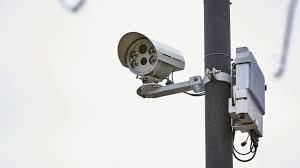Speed-Camera: (111, 28, 197, 91)
